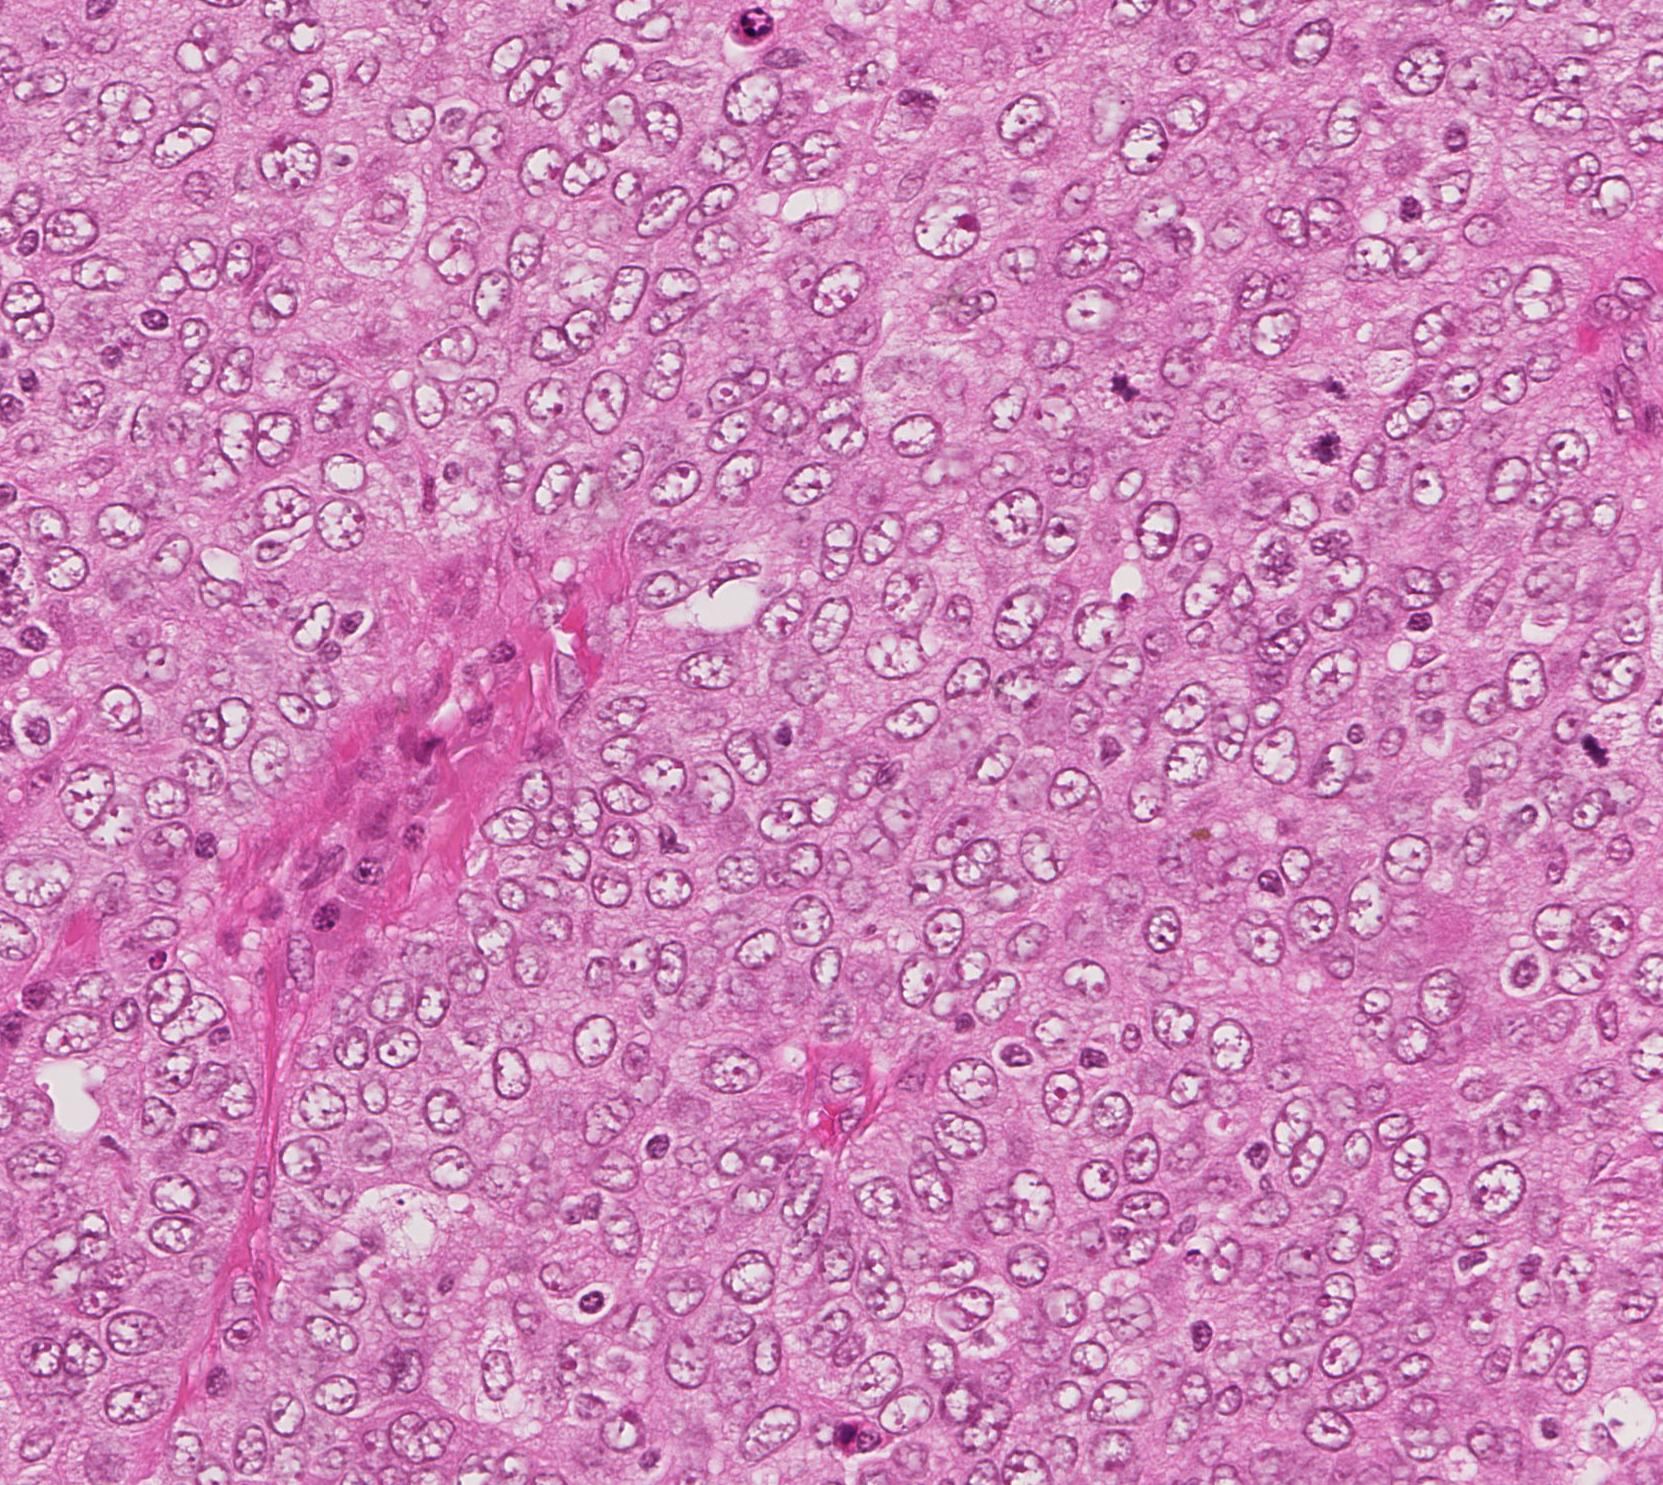mitosis: (1566, 714, 1626, 774), (1306, 358, 1366, 419), (1282, 419, 1342, 477), (1094, 353, 1154, 411)
